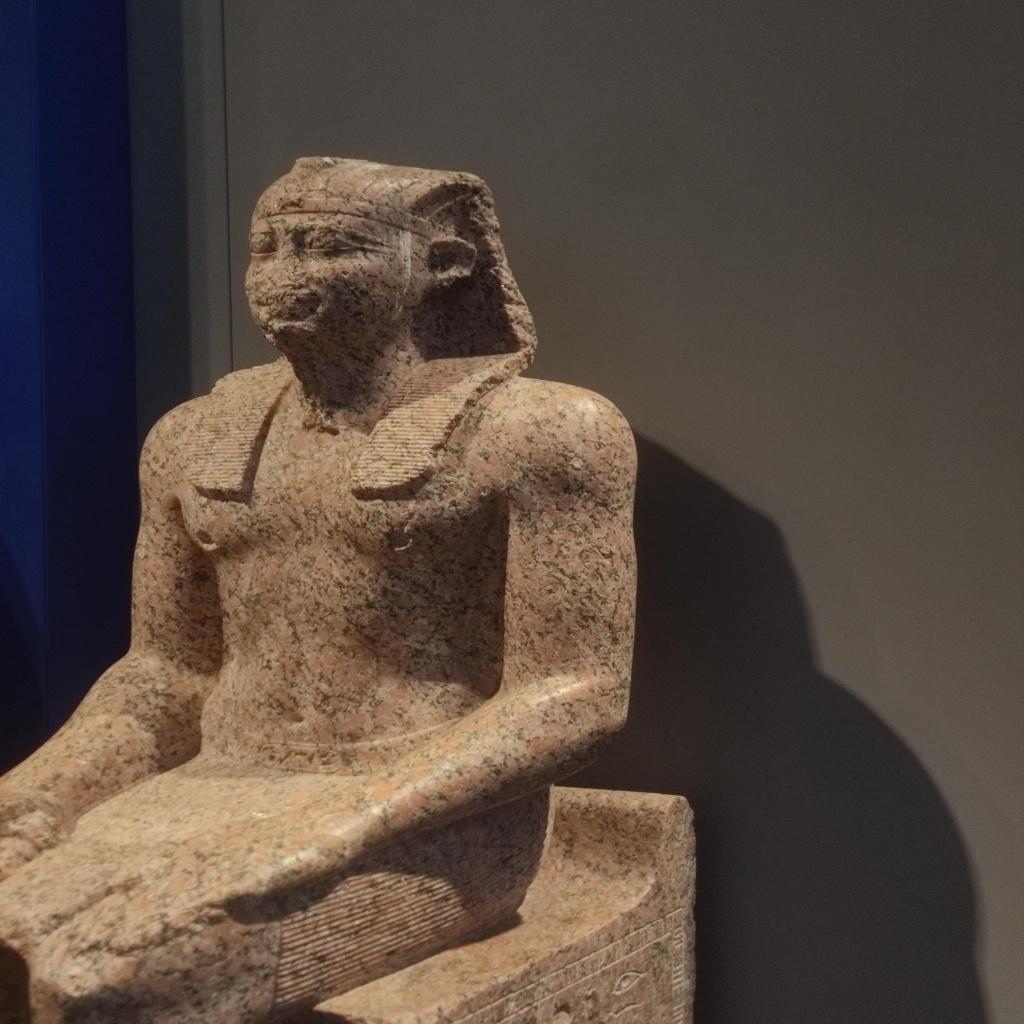Statue of Amenmhat I: (2, 152, 644, 1022)
